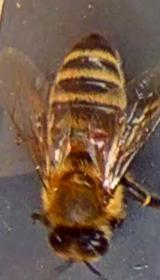varroa_mite: (80, 116, 114, 157)
